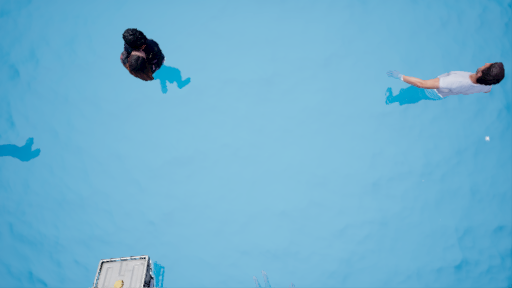person: (389, 56, 495, 118), (121, 27, 187, 97)
